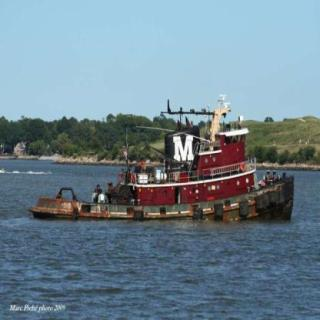Tug Boat: (41, 96, 290, 222)
